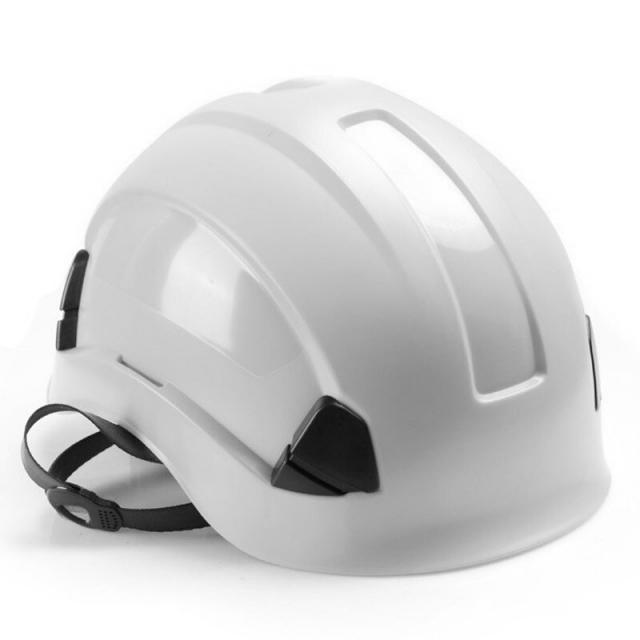safety_helmet: (22, 79, 614, 580)
